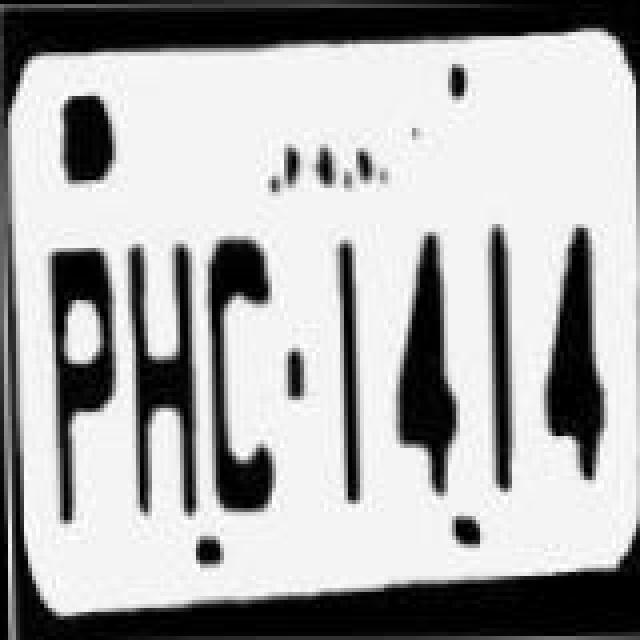1: (324, 220, 376, 504), (472, 214, 524, 486)
4: (530, 208, 610, 496), (384, 228, 468, 500)
C: (200, 236, 284, 524)
H: (120, 232, 204, 516)
P: (40, 240, 128, 520)
